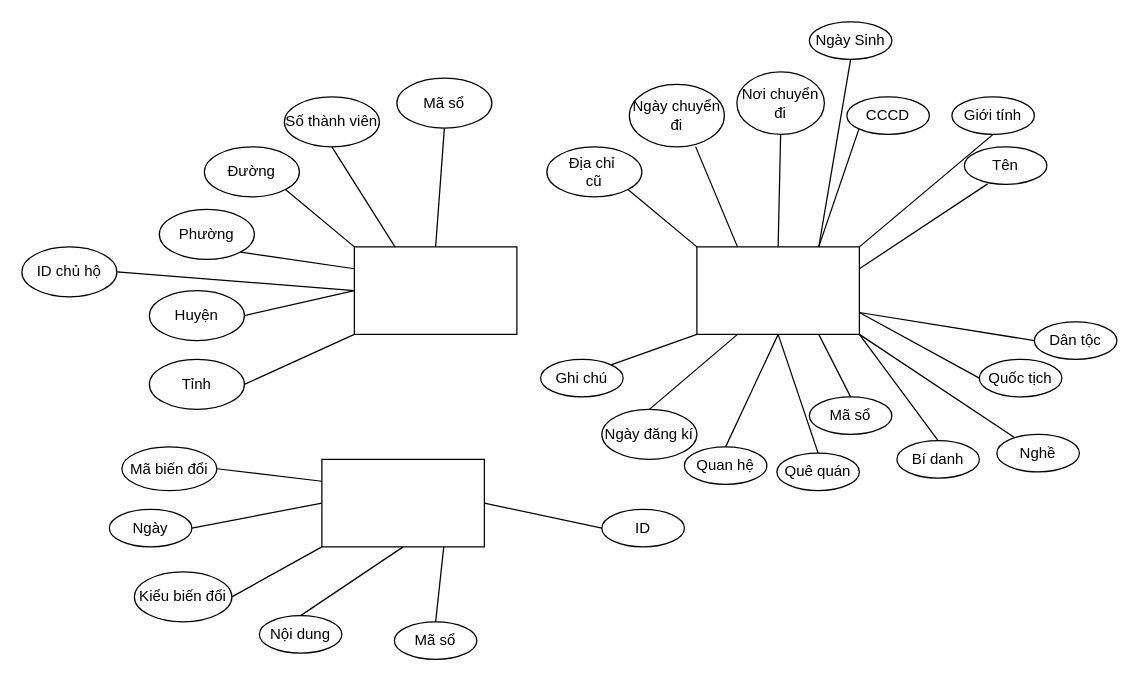
The diagram is 1139 pixels wide and 681 high, and some of its shapes have lost their labels. Here are the shapes that lost their labels. From the top down, the centre of each, then its label:
At pixel 435 290: "Sổ hộ khẩu".
At pixel 777 290: "Cư Dân".
At pixel 402 502: "Biến đổi".
